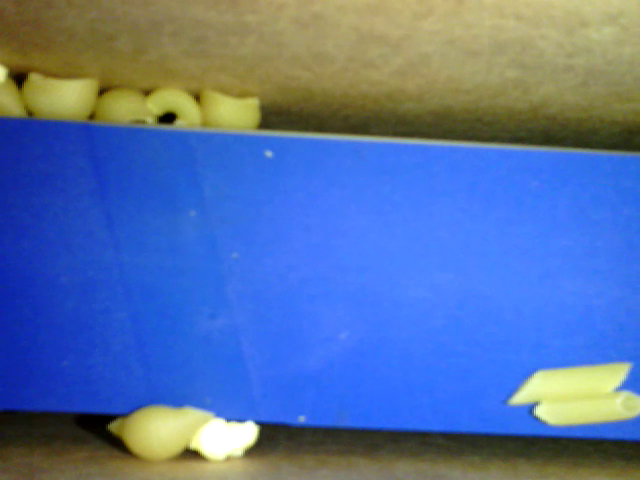elbow: (144, 84, 203, 125)
penne: (506, 360, 630, 405), (531, 392, 639, 426)
shell: (105, 402, 215, 462), (21, 72, 98, 119), (198, 87, 262, 130), (92, 87, 155, 125)
